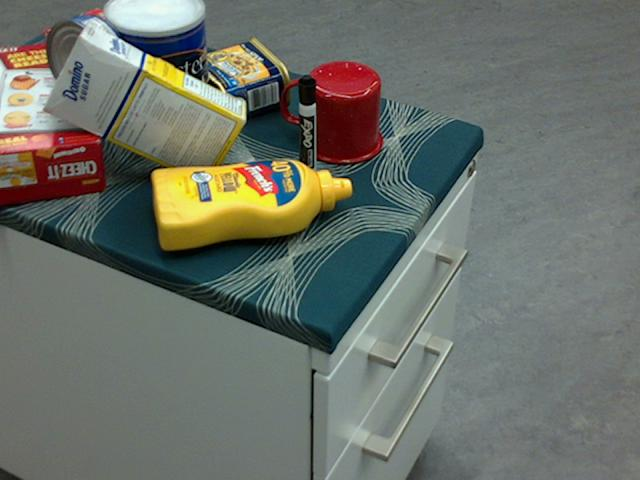cracker_box: (0, 43, 106, 204)
gelatin_box: (44, 9, 138, 70)
large_marker: (296, 74, 317, 182)
master_chef_can: (104, 0, 209, 147)
mug: (280, 60, 381, 164)
mustard_bottle: (150, 158, 352, 250)
potted_meat_can: (188, 36, 291, 123)
sugar_box: (44, 24, 248, 182)
tomato_soup_can: (100, 6, 190, 94)
tuna_fish_can: (45, 14, 129, 103)
